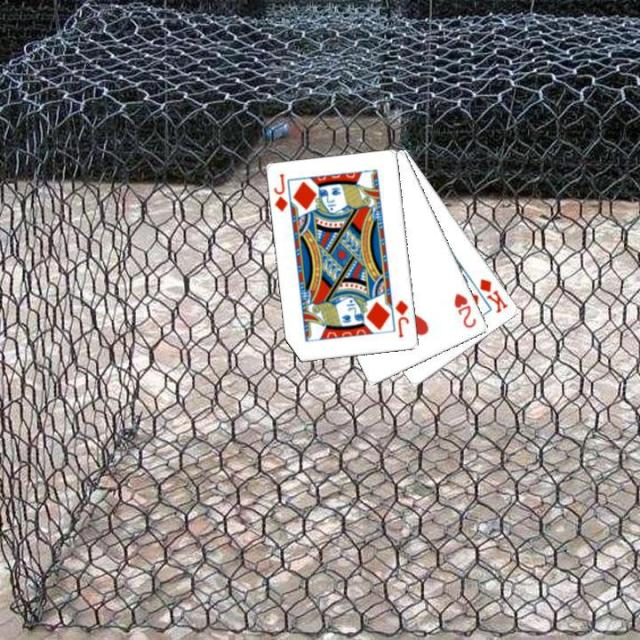2H: (451, 289, 478, 330)
JD: (391, 296, 411, 340), (270, 170, 290, 213)
KD: (476, 274, 510, 314)
